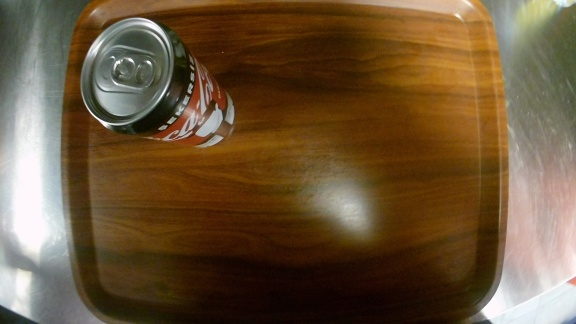kutukola: (75, 14, 239, 152)
